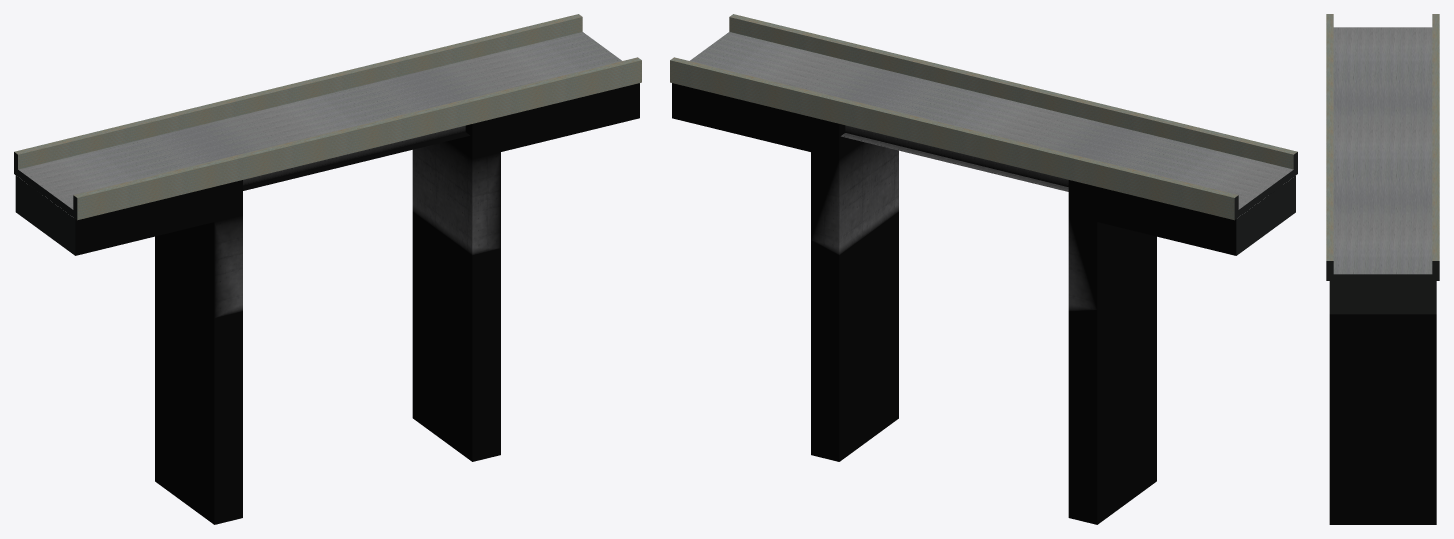
Rendered from AMB_LANDBRIDGE01.glb.
3 renders of one model, left to right at view 1: azimuth 30°, elevation 25°; view 2: azimuth 150°, elevation 25°; view 3: azimuth 270°, elevation 25°, orthographic. The views are drawn at different scales.
Parts seen in each view (by area): view 1: rikkyou1; view 2: rikkyou1; view 3: rikkyou1.
Boxes of the visible parts, x1=… form: rikkyou1: x1=14, y1=14, x2=641, y2=524; rikkyou1: x1=670, y1=14, x2=1297, y2=524; rikkyou1: x1=1326, y1=14, x2=1439, y2=524.
Bounding box in the file's own units: 80 × 49.04 × 15.52.
Materials: 6 (6 with a texture image).
